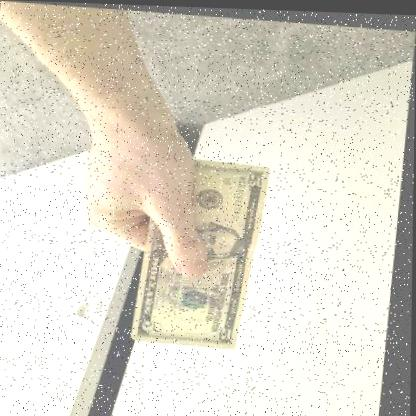dollar_front: (139, 151, 273, 345)
